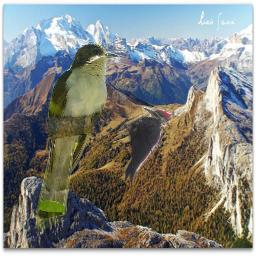Cuckoo: (35, 43, 120, 232)
Woodpecker: (120, 106, 173, 181)
